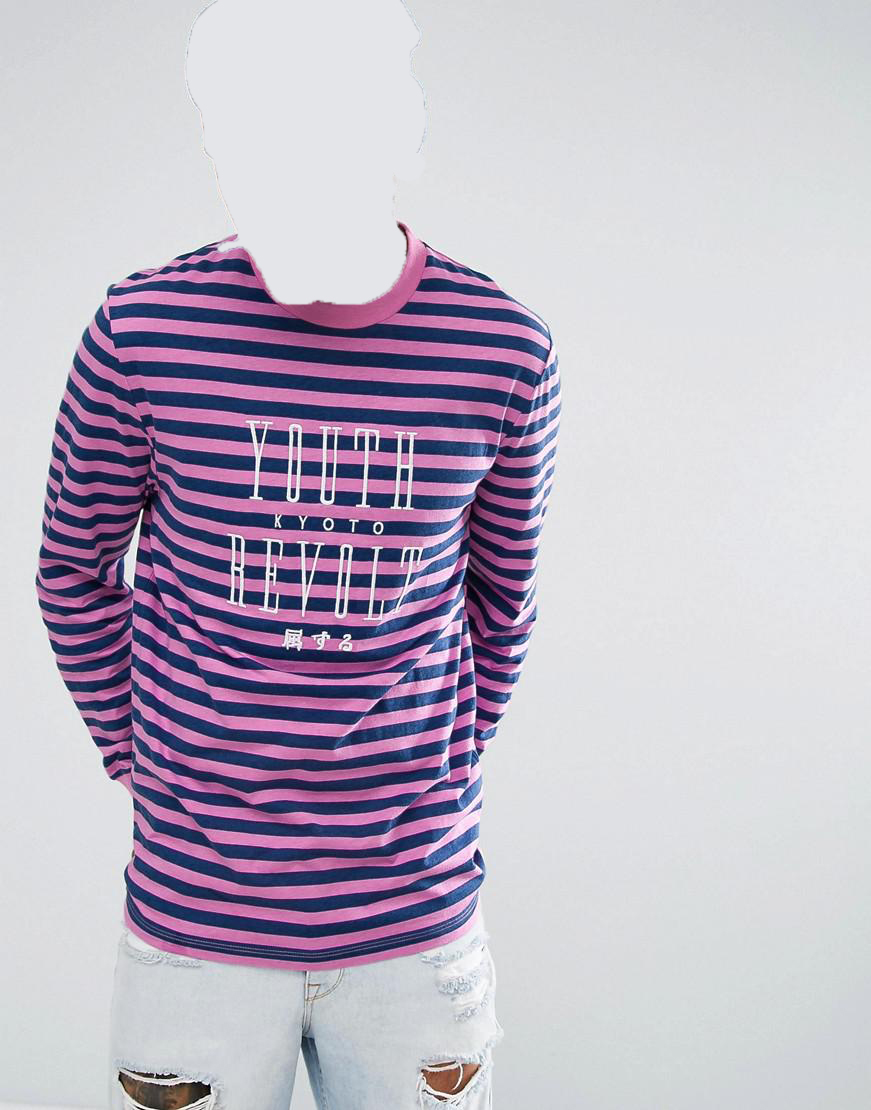teeshirt: (37, 215, 566, 957)
